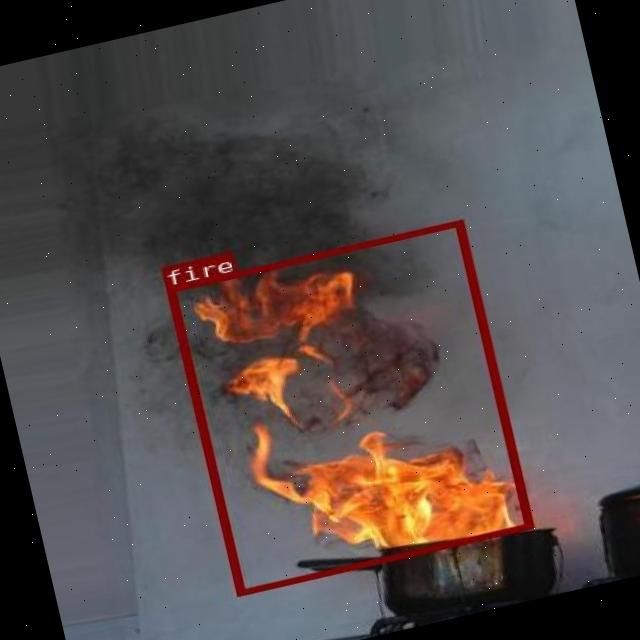fire: (165, 219, 532, 595)
